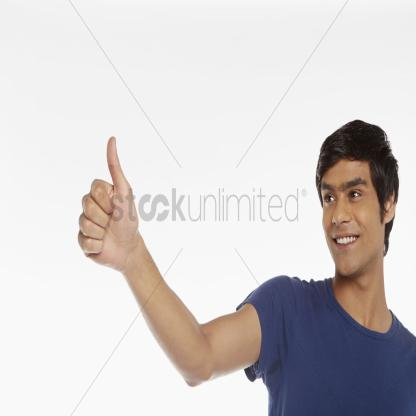Thumbs-Up: (76, 135, 140, 269)
